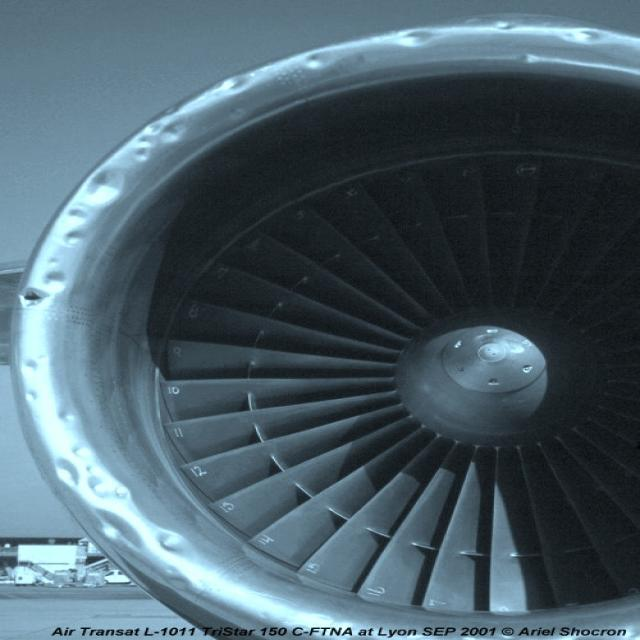dent: (54, 456, 203, 593), (51, 166, 141, 210)
